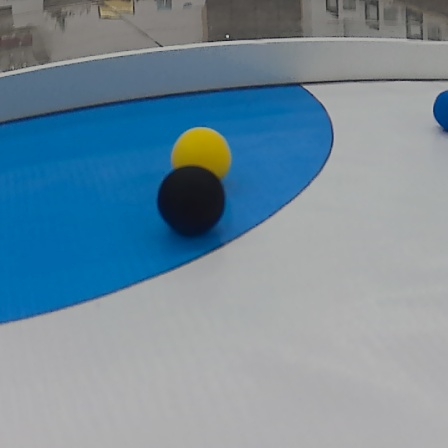black: (157, 165, 229, 239)
blue_base: (0, 82, 335, 329)
yellow: (165, 125, 234, 187)
